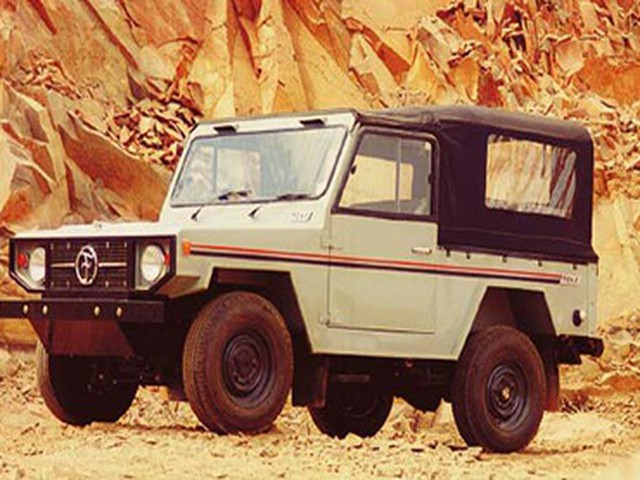Vehicle: (7, 92, 602, 451)
